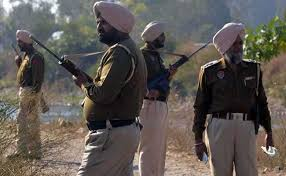Gun: (42, 45, 92, 82), (165, 43, 205, 74)
